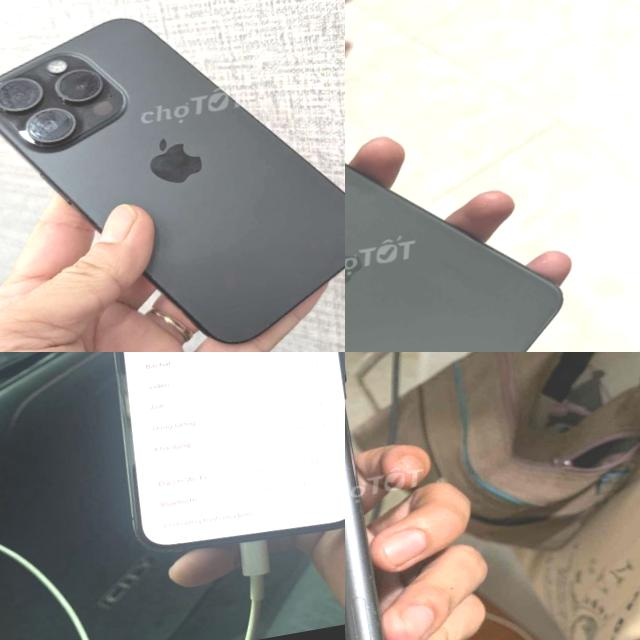gen_11: (345, 164, 561, 352), (345, 409, 383, 640)
gen_12_13: (66, 352, 345, 569)
gen_15: (0, 0, 345, 352)
